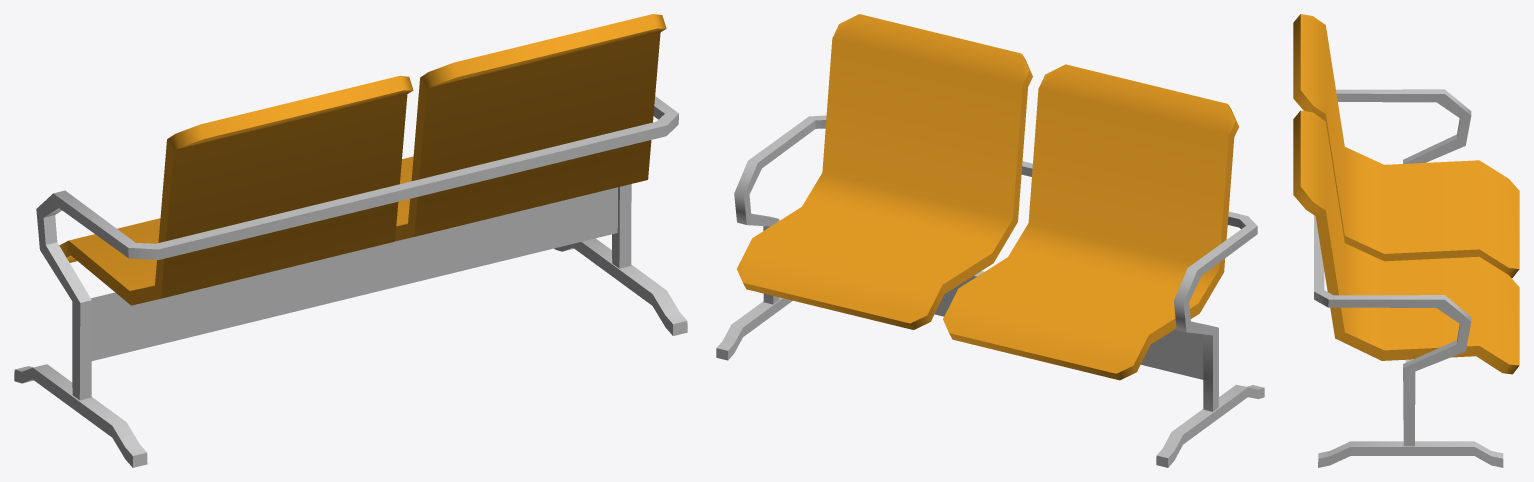
File: SM_Chairs_03.FBX
The picture shows the model from 3 angles, left to right: view 1: azimuth 30°, elevation 25°; view 2: azimuth 150°, elevation 25°; view 3: azimuth 270°, elevation 25°; orthographic projection. The views are drawn at different scales.
Visible parts, largest first — view 1: SM_Chairs_03; view 2: SM_Chairs_03; view 3: SM_Chairs_03.
Part boxes in pixels (left/top/right/bottom): SM_Chairs_03: left=14, top=14, right=687, bottom=467; SM_Chairs_03: left=716, top=14, right=1264, bottom=467; SM_Chairs_03: left=1293, top=14, right=1519, bottom=467.
Size of the model in its own units: 156 by 70.33 by 90.59.
